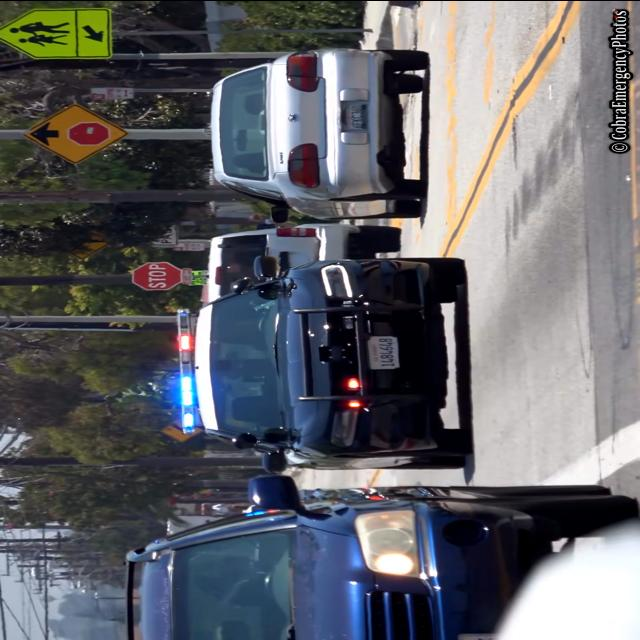emergency-vehicles: (160, 227, 482, 481)
